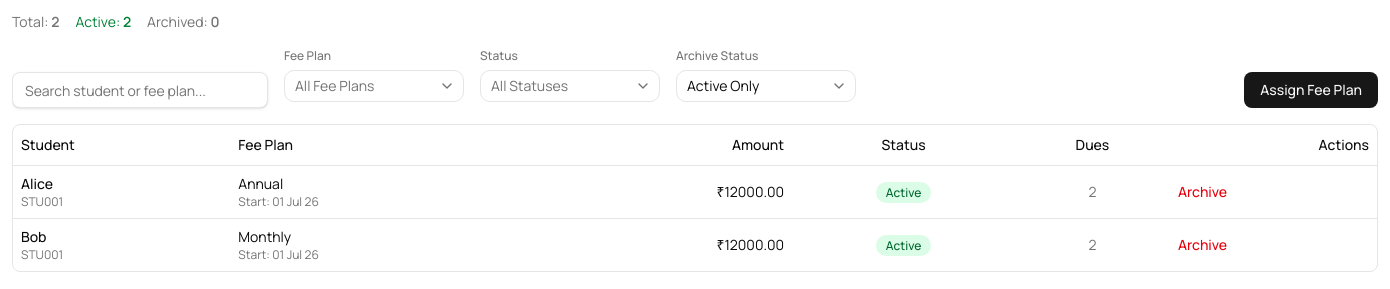
FeeAssignmentList UI › 2. filters by search query
In the field with placeholder "Search student or fee plan...": (140, 90) x1=12 y1=72 x2=268 y2=108, type "Bob"
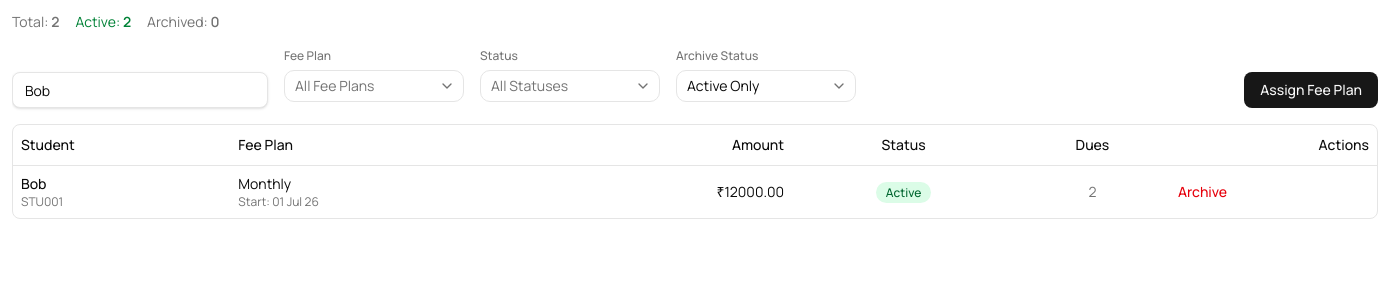
Expected: the text "Bob" is shown, x1=21 y1=174 x2=46 y2=192
Now the text "Alice" is not shown
